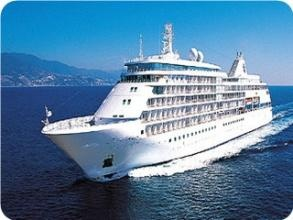youlun: (34, 27, 274, 181)
